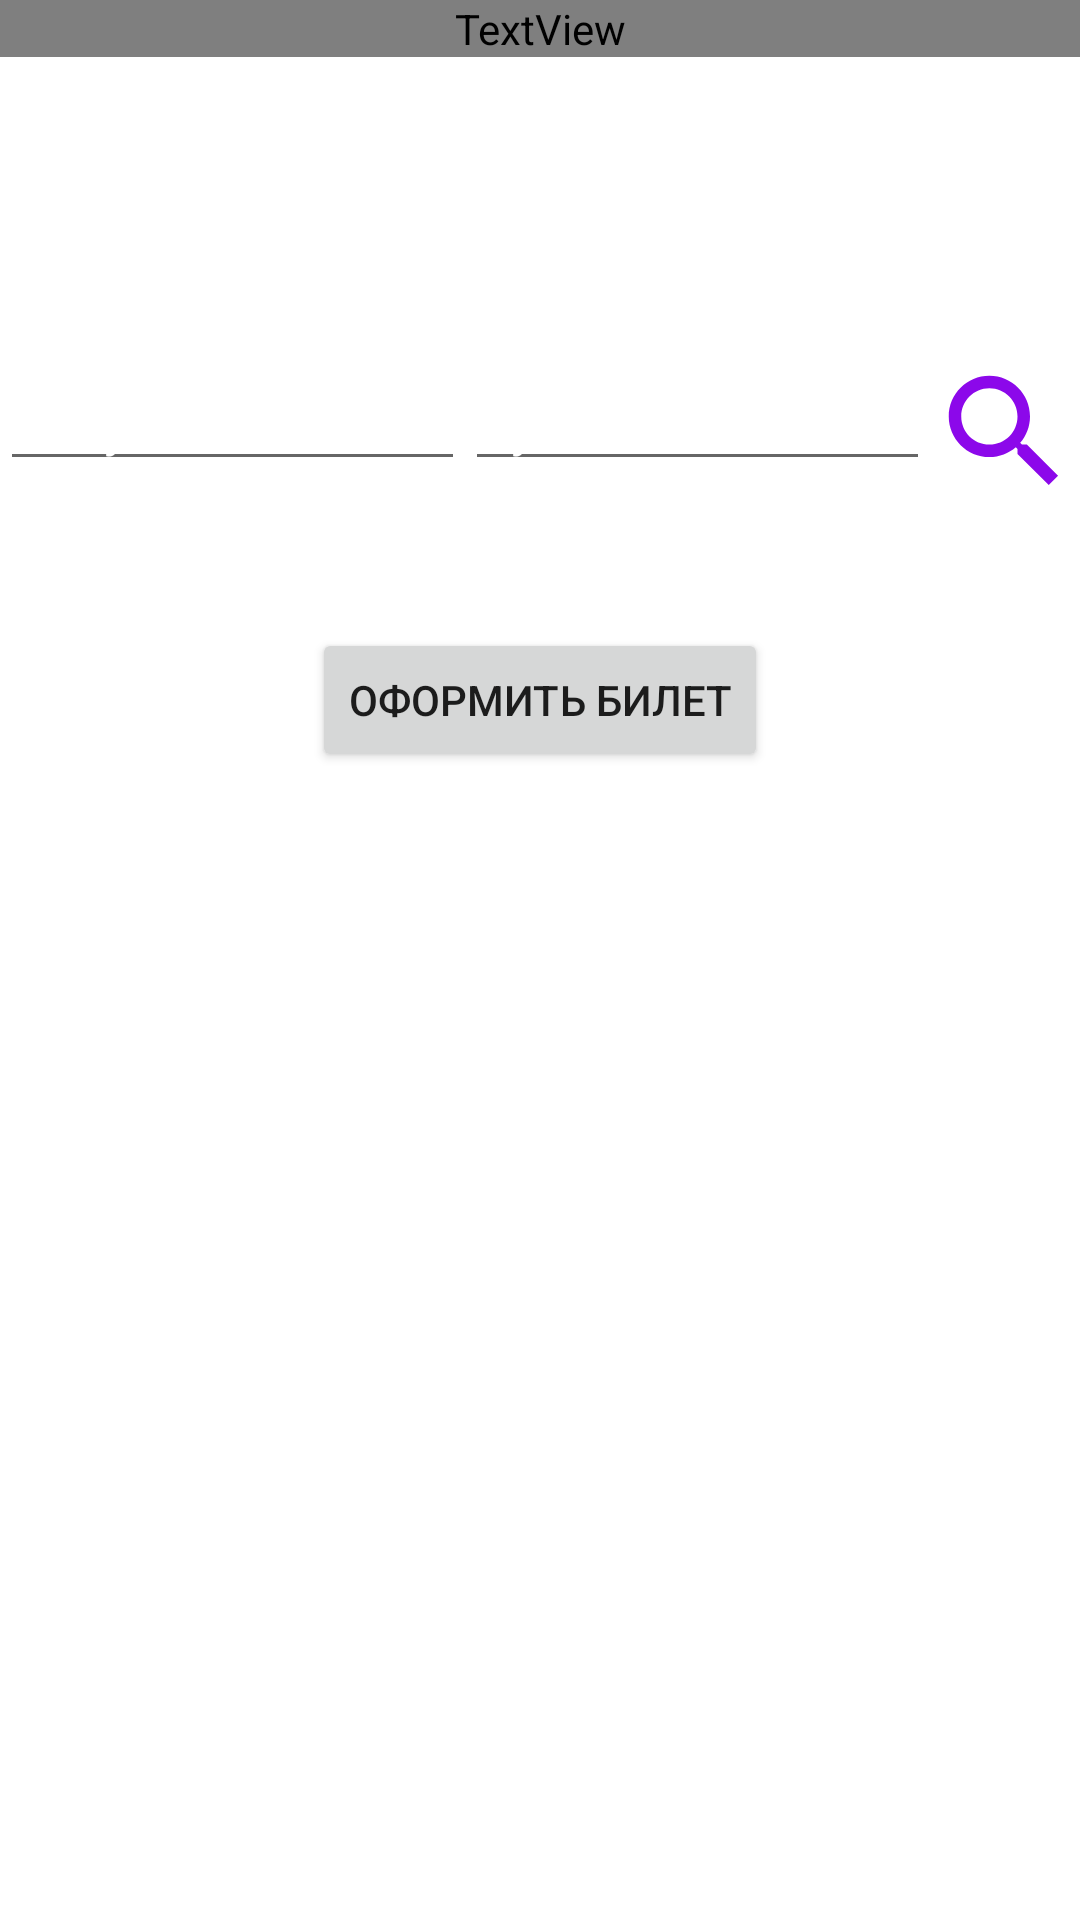

Where icons sit on this 1080w x 1920h app screen, as [x1, y1, x2, y2]:
search: [948, 375, 1058, 485]
